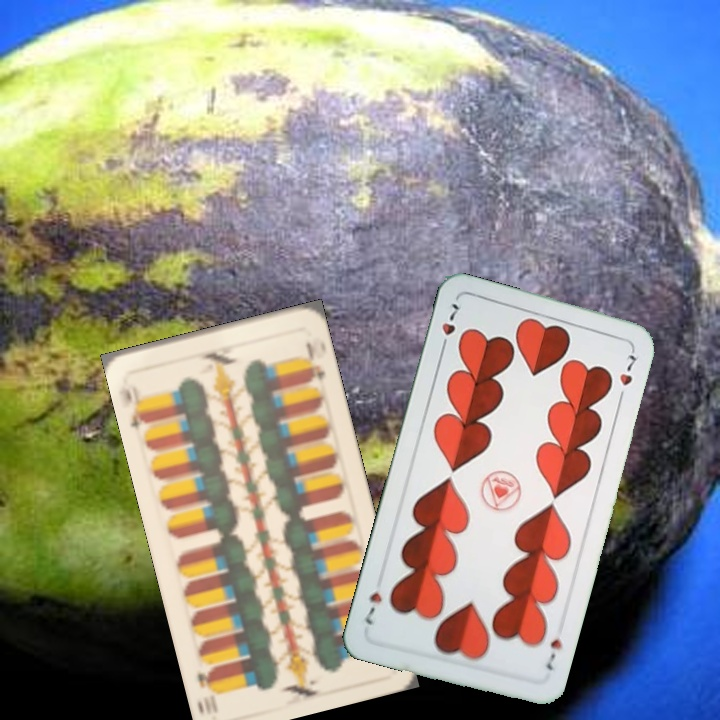E10: (116, 373, 152, 432)
H7: (436, 299, 462, 355), (541, 625, 565, 674)
